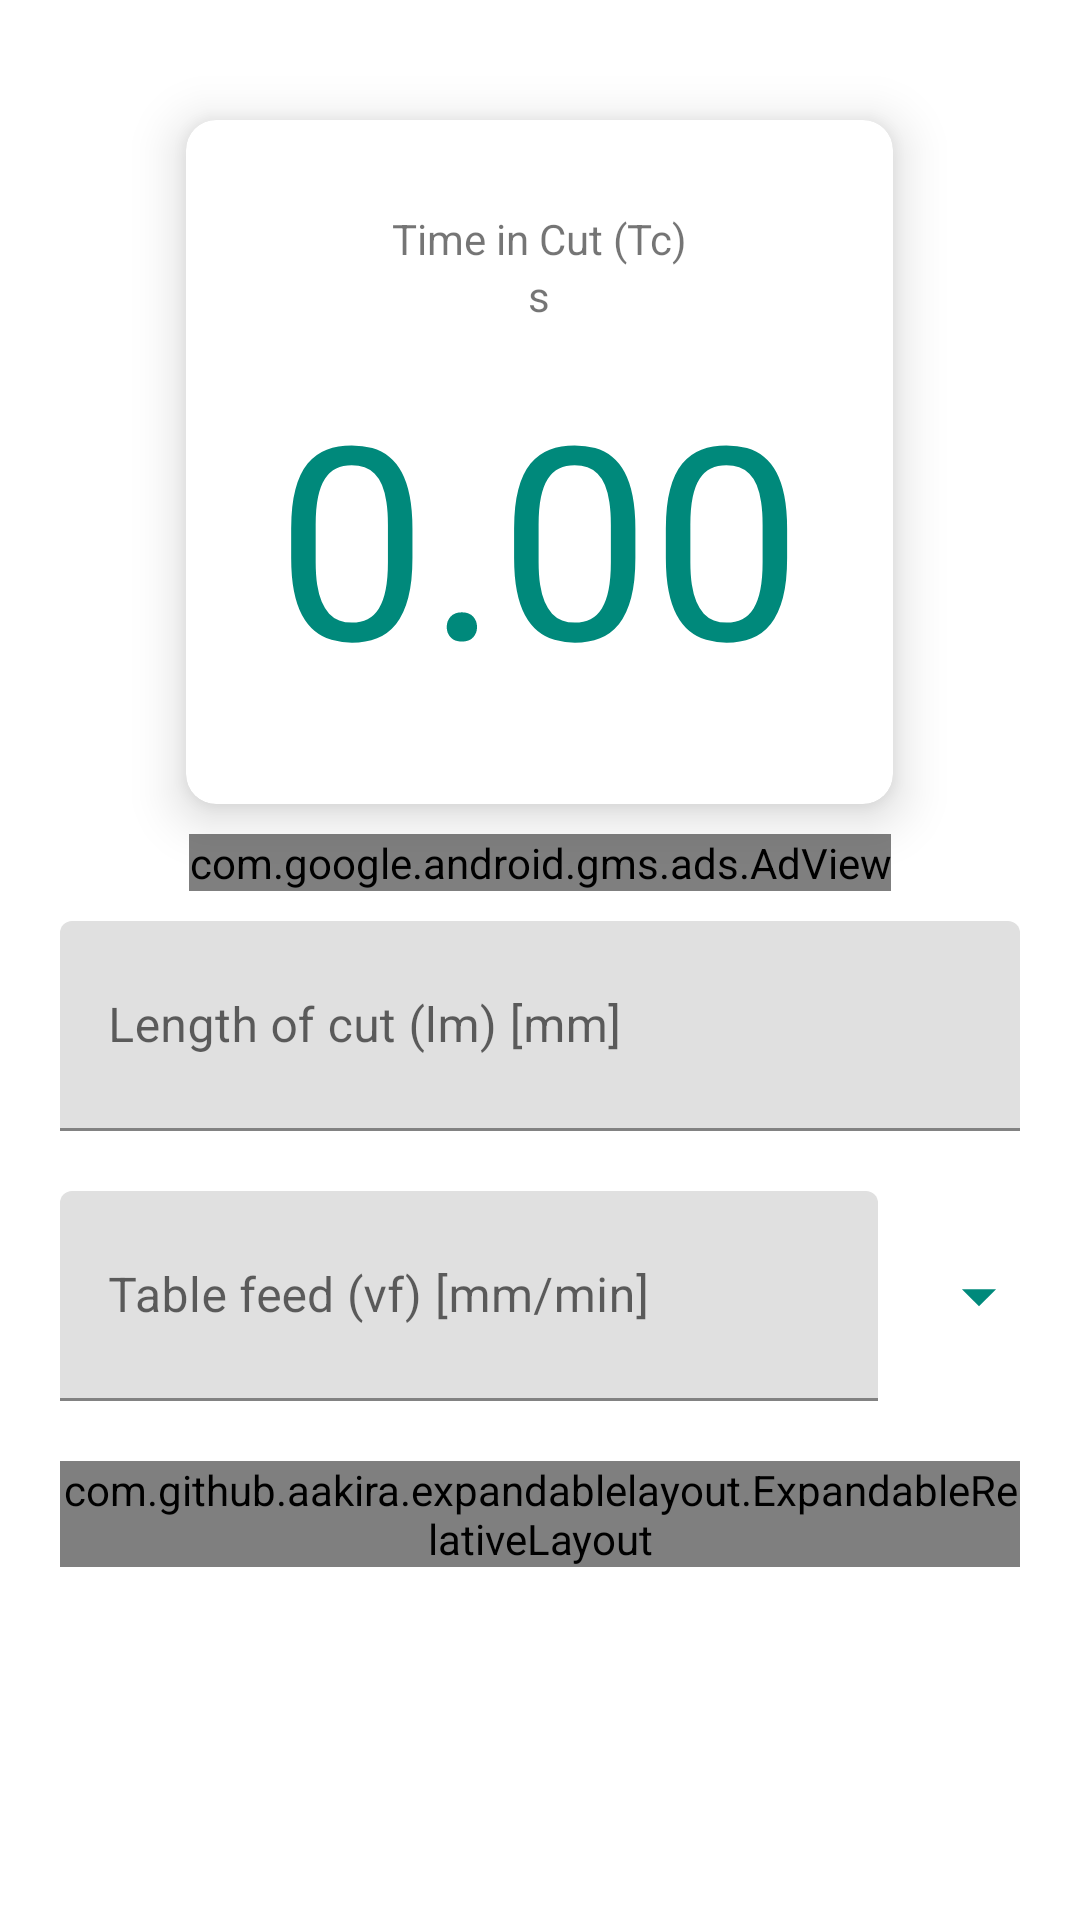

Point at icon controls on the screen. Image size 1080 × 1920, points as (x=x, y=y).
arrow drop down: (x=979, y=1297)
